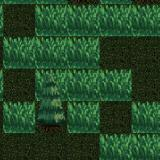Obstacle: (35, 101, 67, 133)
Slow: (34, 5, 160, 36), (35, 69, 132, 101), (3, 37, 100, 68), (100, 133, 160, 160), (67, 101, 101, 134), (3, 102, 35, 133), (132, 100, 160, 133)
